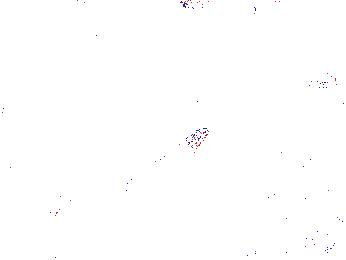glassfish: (105, 125, 213, 207)
red belly glassfish: (312, 72, 341, 91)
redtail glassfish: (177, 1, 237, 13)
